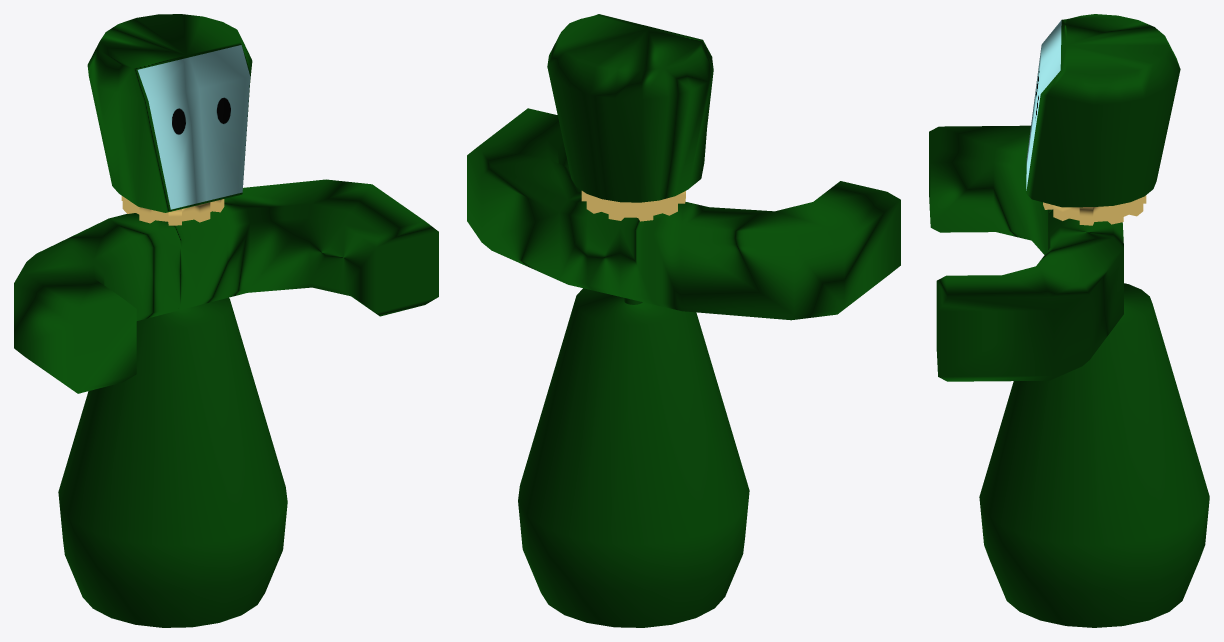
The model's file is TestKB-004.fbx.
3 views of the same model, side by side, from view 1: azimuth 30°, elevation 25°; view 2: azimuth 150°, elevation 25°; view 3: azimuth 270°, elevation 25° (orthographic).
Visible parts, largest first — view 1: Body, Arm, Head_ver3, Neck_Screw; view 2: Body, Arm, Head_ver3, Neck_Screw; view 3: Body, Arm, Head_ver3, Neck_Screw.
Part boxes in pixels (left/top/right/bottom): Body: left=58, top=297, right=287, bottom=627; Arm: left=14, top=179, right=438, bottom=393; Head_ver3: left=87, top=14, right=252, bottom=212; Neck_Screw: left=121, top=196, right=224, bottom=225; Body: left=518, top=288, right=749, bottom=627; Arm: left=467, top=108, right=900, bottom=320; Head_ver3: left=547, top=14, right=713, bottom=202; Neck_Screw: left=581, top=191, right=685, bottom=221; Body: left=979, top=283, right=1209, bottom=627; Arm: left=929, top=125, right=1123, bottom=381; Head_ver3: left=1026, top=14, right=1180, bottom=207; Neck_Screw: left=1043, top=195, right=1146, bottom=225.
Size of the model in its own units: 209 by 294 by 137.
Materials: 3 (1 with a texture image).
